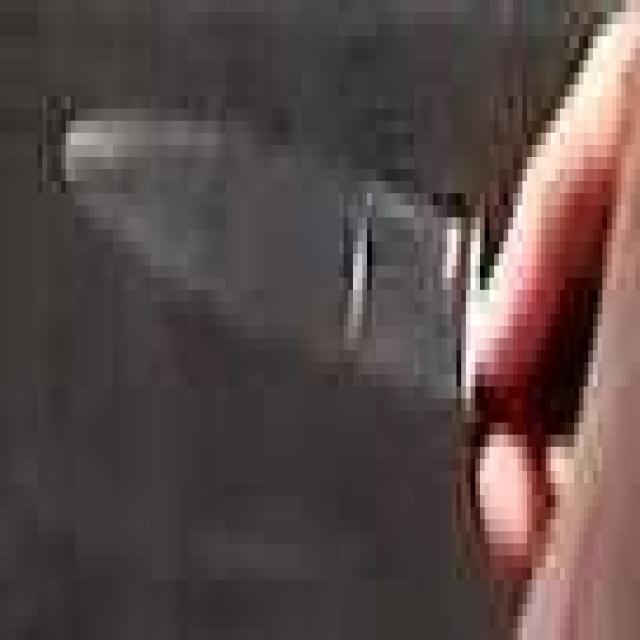knife: (47, 78, 569, 488)
